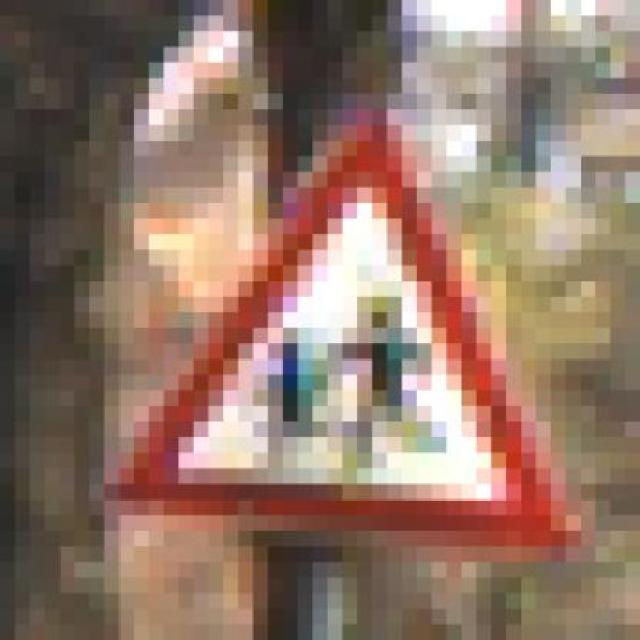Beware of children: (104, 93, 610, 562)
